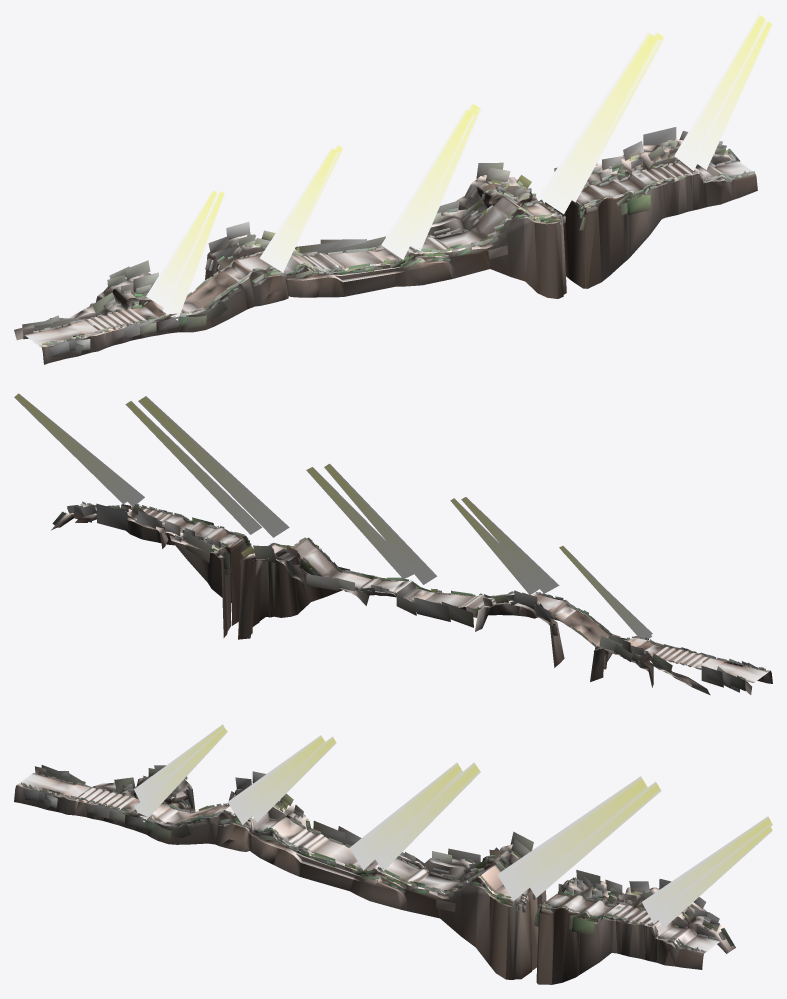
File: Forest_08.fbx
The picture shows the model from 3 angles, top to bottom: view 1: azimuth 30°, elevation 25°; view 2: azimuth 150°, elevation 25°; view 3: azimuth 330°, elevation 25°; orthographic projection. The views are drawn at different scales.
Visible parts, largest first — view 1: Mountain_01, Light_01, Tree_01, Ground_01; view 2: Light_01, Mountain_01, Tree_01, Ground_01; view 3: Mountain_01, Light_01, Tree_01, Ground_01.
Boxes of the visible parts, <box> form: Mountain_01: <box>40,138,757,364</box>; Light_01: <box>146,14,772,320</box>; Tree_01: <box>14,127,754,357</box>; Ground_01: <box>24,160,751,345</box>; Light_01: <box>14,393,652,638</box>; Mountain_01: <box>51,503,772,695</box>; Tree_01: <box>52,501,766,694</box>; Ground_01: <box>68,504,768,682</box>; Mountain_01: <box>14,776,735,984</box>; Light_01: <box>134,724,772,928</box>; Tree_01: <box>21,765,733,952</box>; Ground_01: <box>19,773,720,951</box>.
Size of the model in its own units: 40394 by 11174 by 4279.
